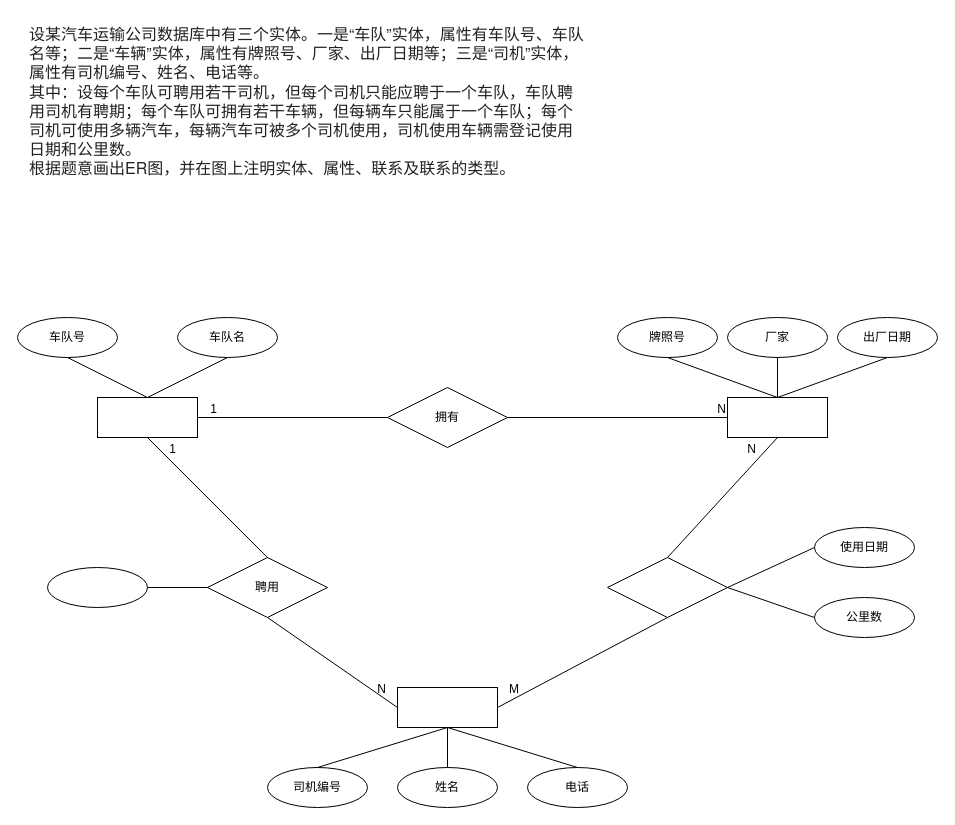
Image size: 955x825. Some labels were removed from this diagram. The shapes that lost their labels are listed below. From the top down, each one's centre as x and y in pixels, then its label:
the point at 147,417: 车队
the point at 777,417: 车辆
the point at 97,587: 聘期
the point at 667,587: 使用
the point at 447,707: 司机
